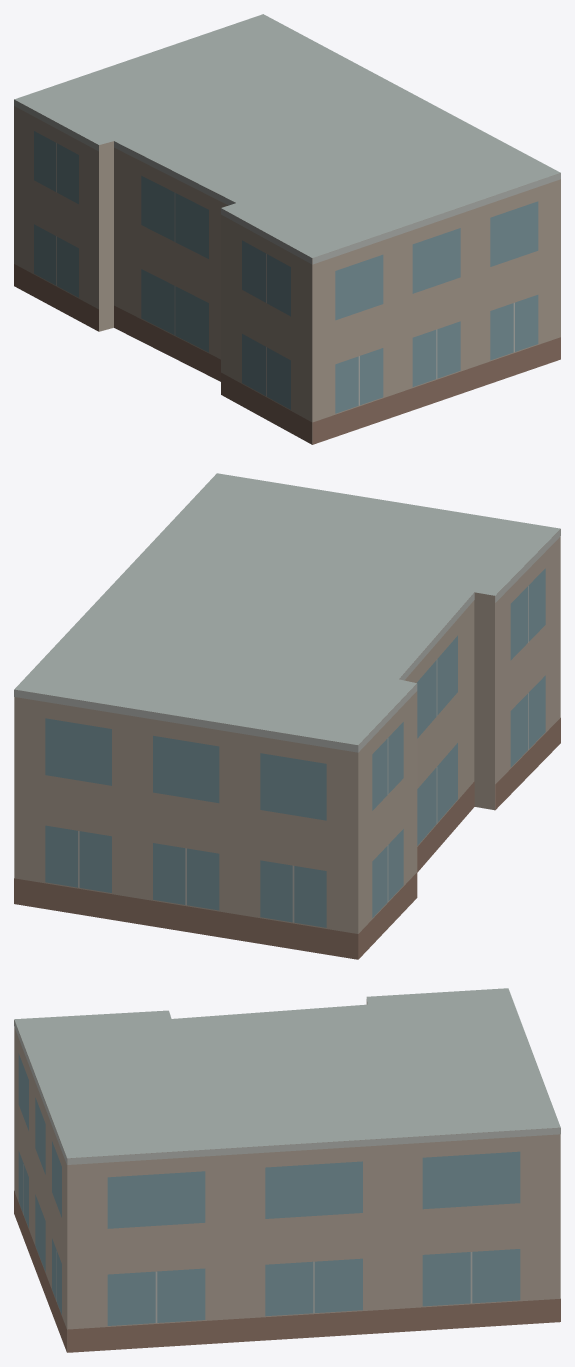
Rendered from survey-upis-33007200.glb.
3 renders of one model, top to bottom at view 1: azimuth 30°, elevation 25°; view 2: azimuth 150°, elevation 25°; view 3: azimuth 270°, elevation 25°, orthographic. The views are drawn at different scales.
Parts seen in each view (by area): view 1: survey-upis-33007200.tmp; view 2: survey-upis-33007200.tmp; view 3: survey-upis-33007200.tmp.
Boxes of the visible parts, x1,y1,x2,y2 form: survey-upis-33007200.tmp: (14, 14, 560, 444); survey-upis-33007200.tmp: (14, 473, 560, 959); survey-upis-33007200.tmp: (14, 988, 560, 1352).
Bounding box in the file's own units: 13.25 × 7.05 × 17.98.
